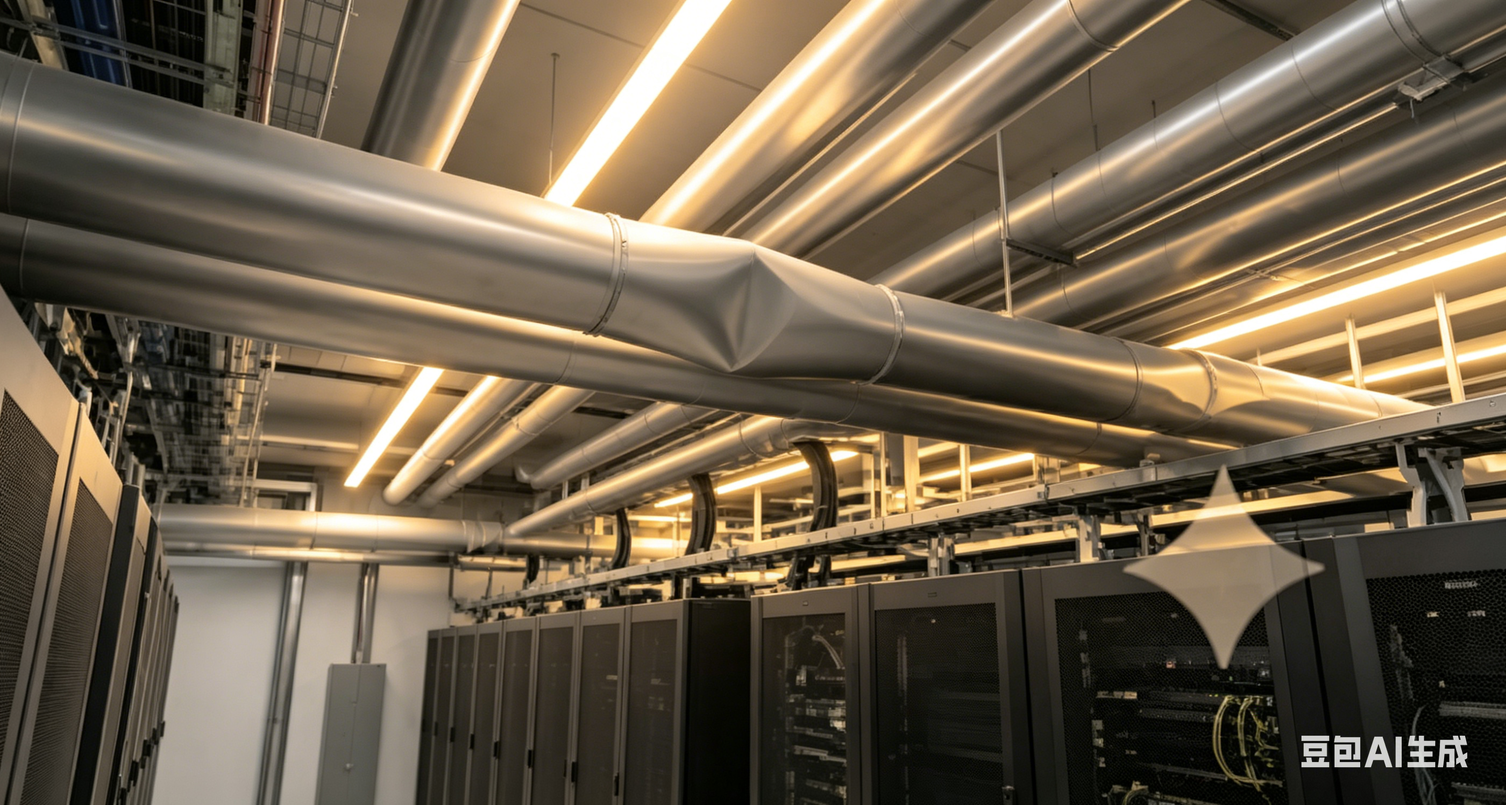Leakage: (665, 238, 835, 389)
